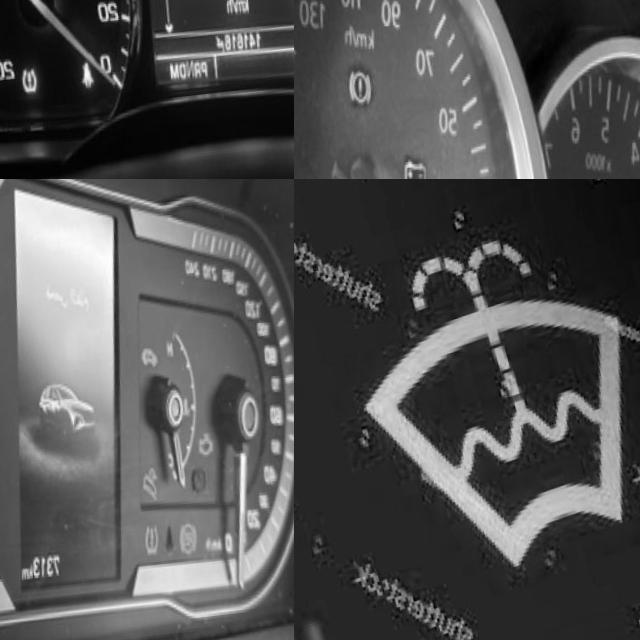Seat Belt: (150, 532, 170, 575), (71, 61, 86, 94)
Washer Fluid: (346, 238, 628, 589)
